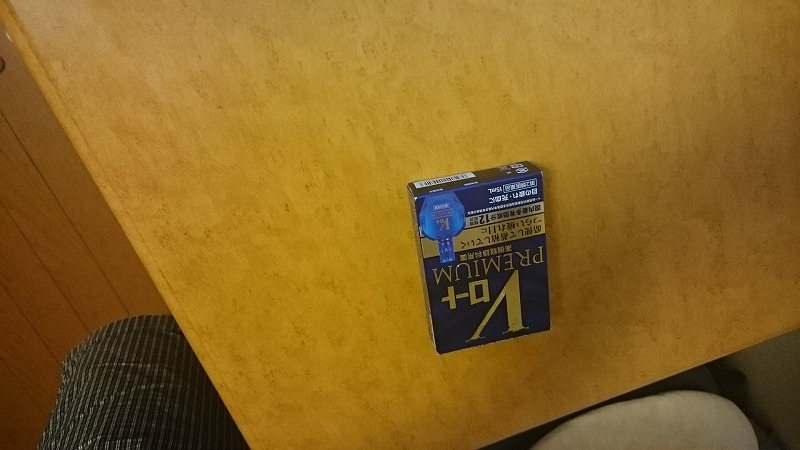D: (402, 154, 558, 360)
